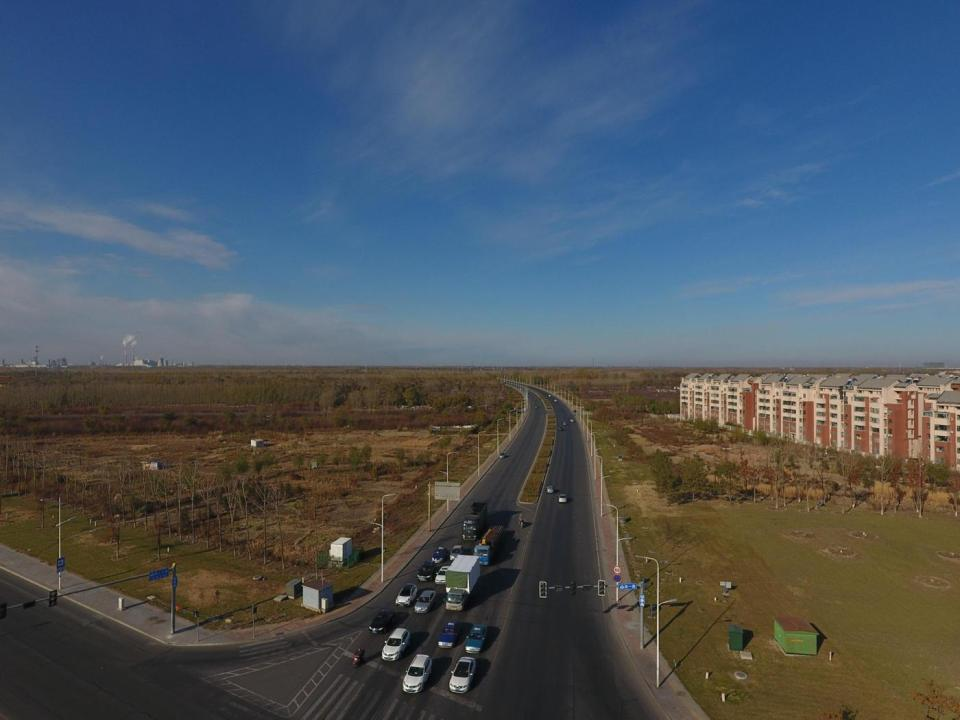car: (402, 654, 432, 694), (381, 627, 411, 661), (449, 656, 476, 693), (465, 624, 487, 654), (438, 620, 461, 648), (368, 610, 395, 633), (396, 583, 418, 608), (414, 590, 436, 614), (417, 560, 436, 581), (434, 565, 452, 585), (431, 546, 448, 562), (450, 545, 463, 560), (558, 494, 567, 502), (546, 486, 554, 494), (499, 453, 506, 458), (559, 426, 563, 430), (570, 419, 574, 422), (563, 421, 566, 425), (573, 410, 577, 412), (548, 395, 551, 397), (535, 405, 537, 408), (554, 399, 557, 401), (534, 398, 536, 400)
truck: (445, 554, 479, 611), (473, 524, 504, 566), (462, 502, 488, 540)
